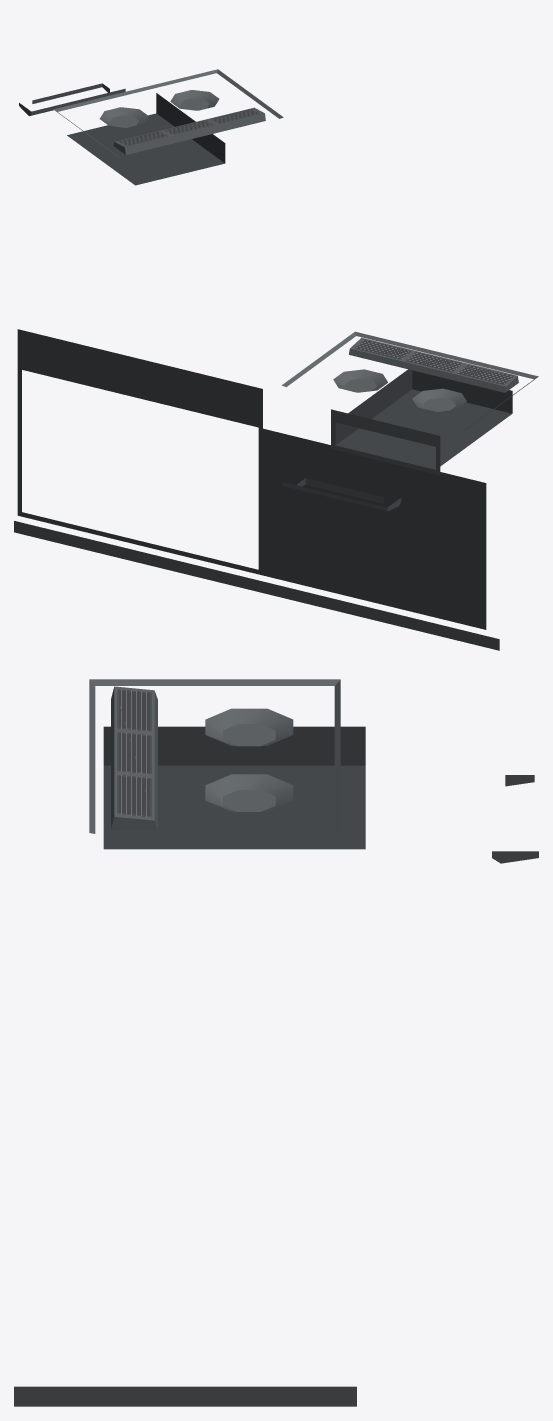
File: kd_stage_135d18_4_54_bounded.glb
3 renders of one model, top to bottom at view 1: azimuth 30°, elevation 25°; view 2: azimuth 150°, elevation 25°; view 3: azimuth 270°, elevation 25°, orthographic. The views are drawn at different scales.
Visible parts, largest first — view 1: kd_stage_135d18_4_54_bounded; view 2: kd_stage_135d18_4_54_bounded; view 3: kd_stage_135d18_4_54_bounded.
Part boxes in pixels (x1,y1,x2,y2): kd_stage_135d18_4_54_bounded: [19, 69, 283, 185]; kd_stage_135d18_4_54_bounded: [14, 329, 538, 650]; kd_stage_135d18_4_54_bounded: [14, 679, 538, 1406].
Size of the model in its own units: 2.18 by 0.9014 by 1.19.
Materials: 1 (1 with a texture image).
